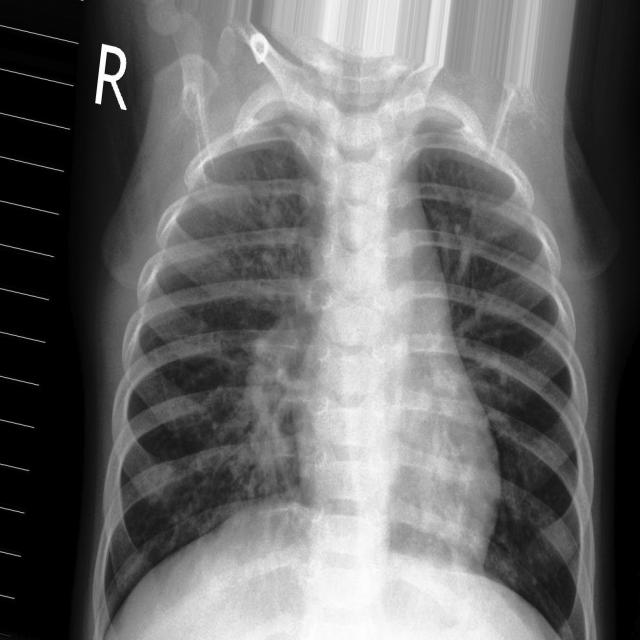viral_pneumonia: (45, 4, 639, 640)
